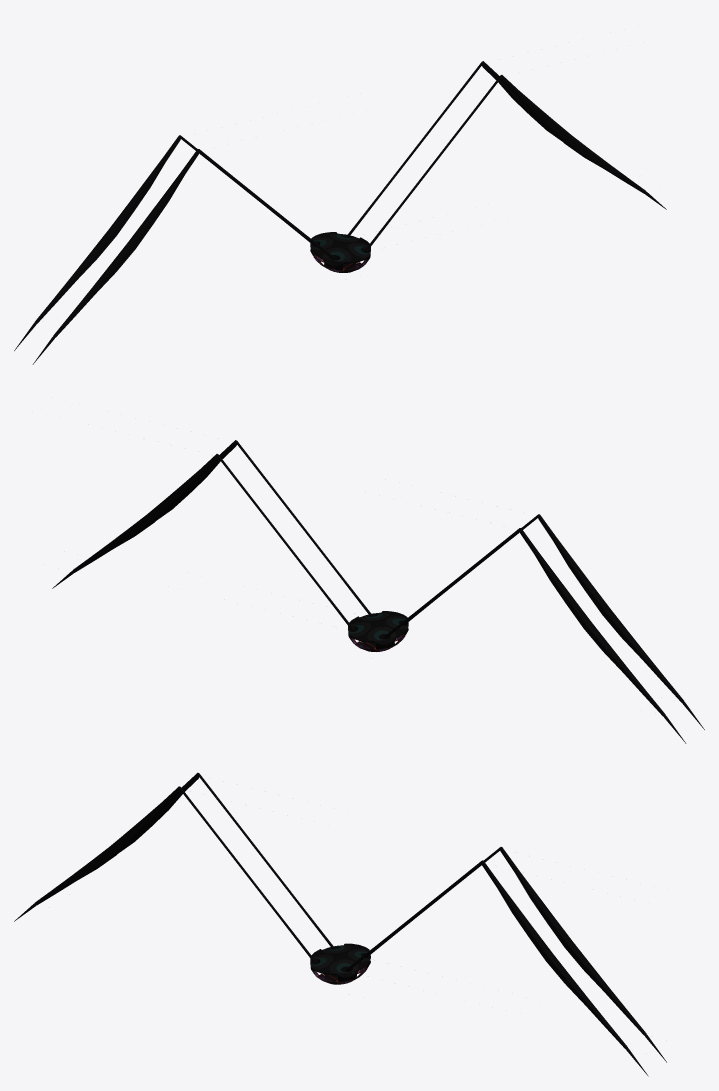
File: Matriel2.obj
The picture shows the model from 3 angles, top to bottom: view 1: azimuth 30°, elevation 25°; view 2: azimuth 150°, elevation 25°; view 3: azimuth 330°, elevation 25°; orthographic projection.
Parts seen in each view (by area): view 1: SMDImport; view 2: SMDImport; view 3: SMDImport.
Part boxes in pixels (x1,y1,x2,y2): SMDImport: (14, 61, 666, 364); SMDImport: (52, 440, 704, 743); SMDImport: (14, 772, 666, 1076).
Bounding box in the file's own units: 56853 × 14207 × 5543.
